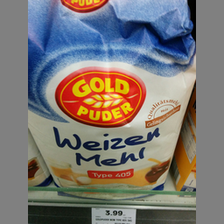flour: (28, 1, 195, 203)
